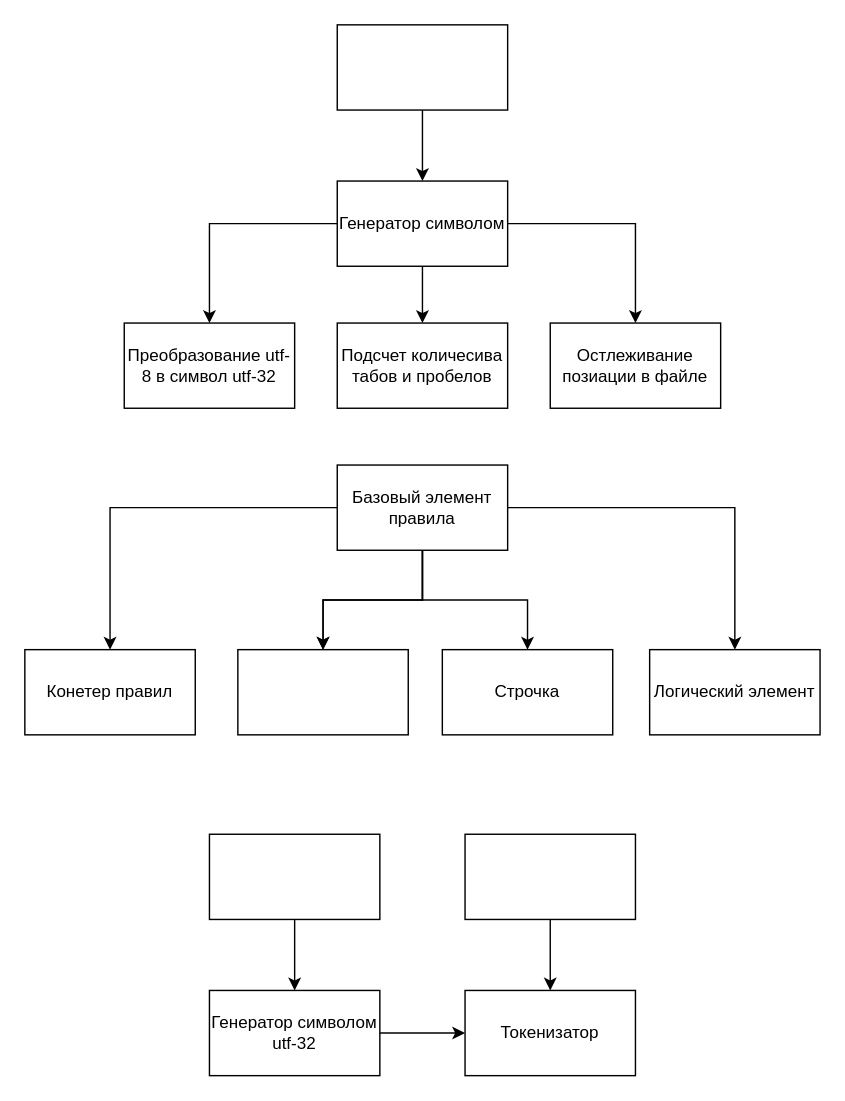
This 845x1101 diagram has some shape labels left out. Each missing label, with the centre of its shape:
"Входная лента символов" goes at (294,876).
"Входной текст" goes at (422,66).
"Лексический анализатор + набор правил" goes at (549,876).
"Множество символов" goes at (322,691).
